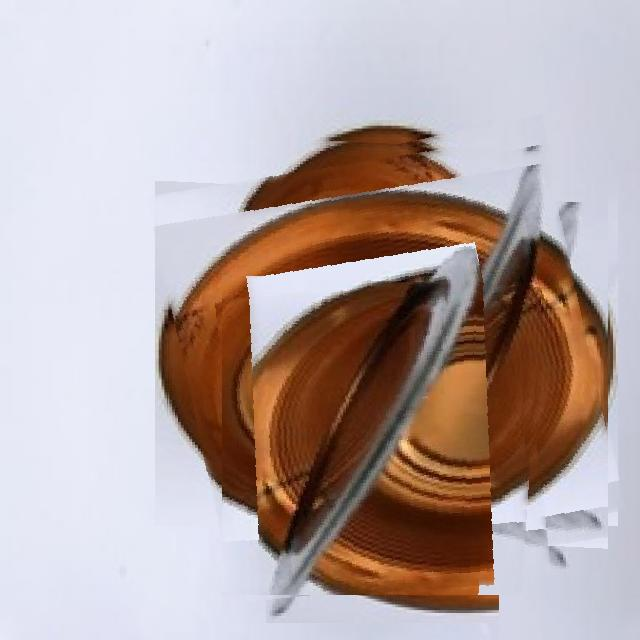recyclable: (166, 132, 608, 575), (222, 275, 542, 595)
